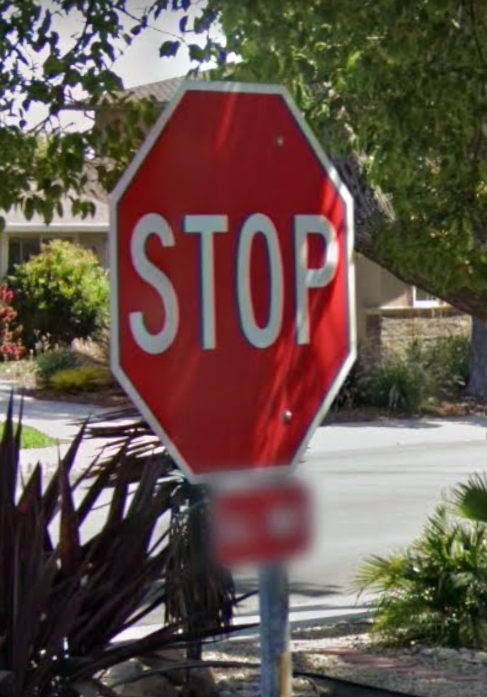stop_sign: (109, 86, 349, 474)
